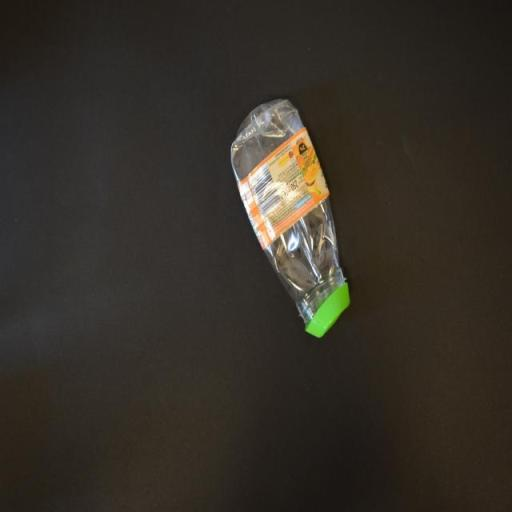plastic: (232, 98, 352, 340)
